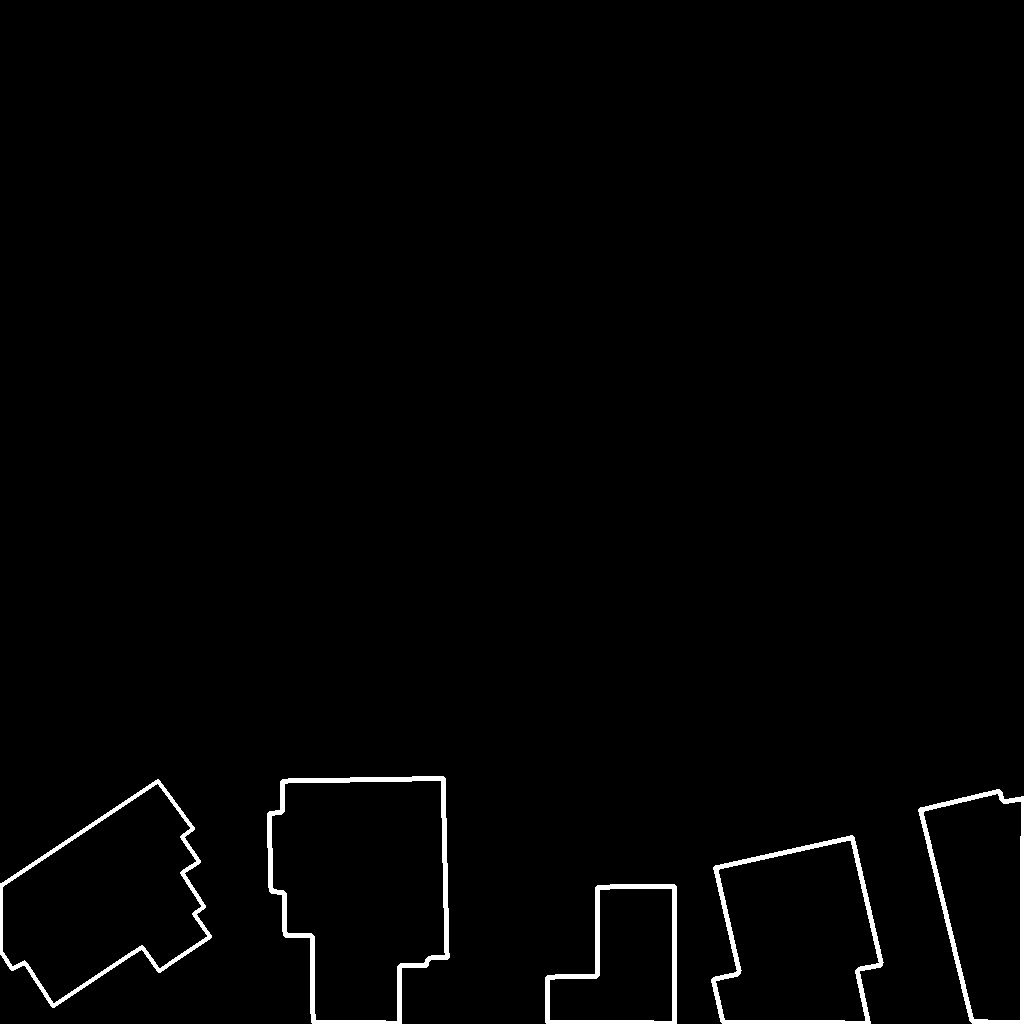building: (0, 781, 211, 1007), (269, 778, 448, 1024), (713, 837, 882, 1024), (920, 791, 1024, 1024), (547, 886, 676, 1024)
